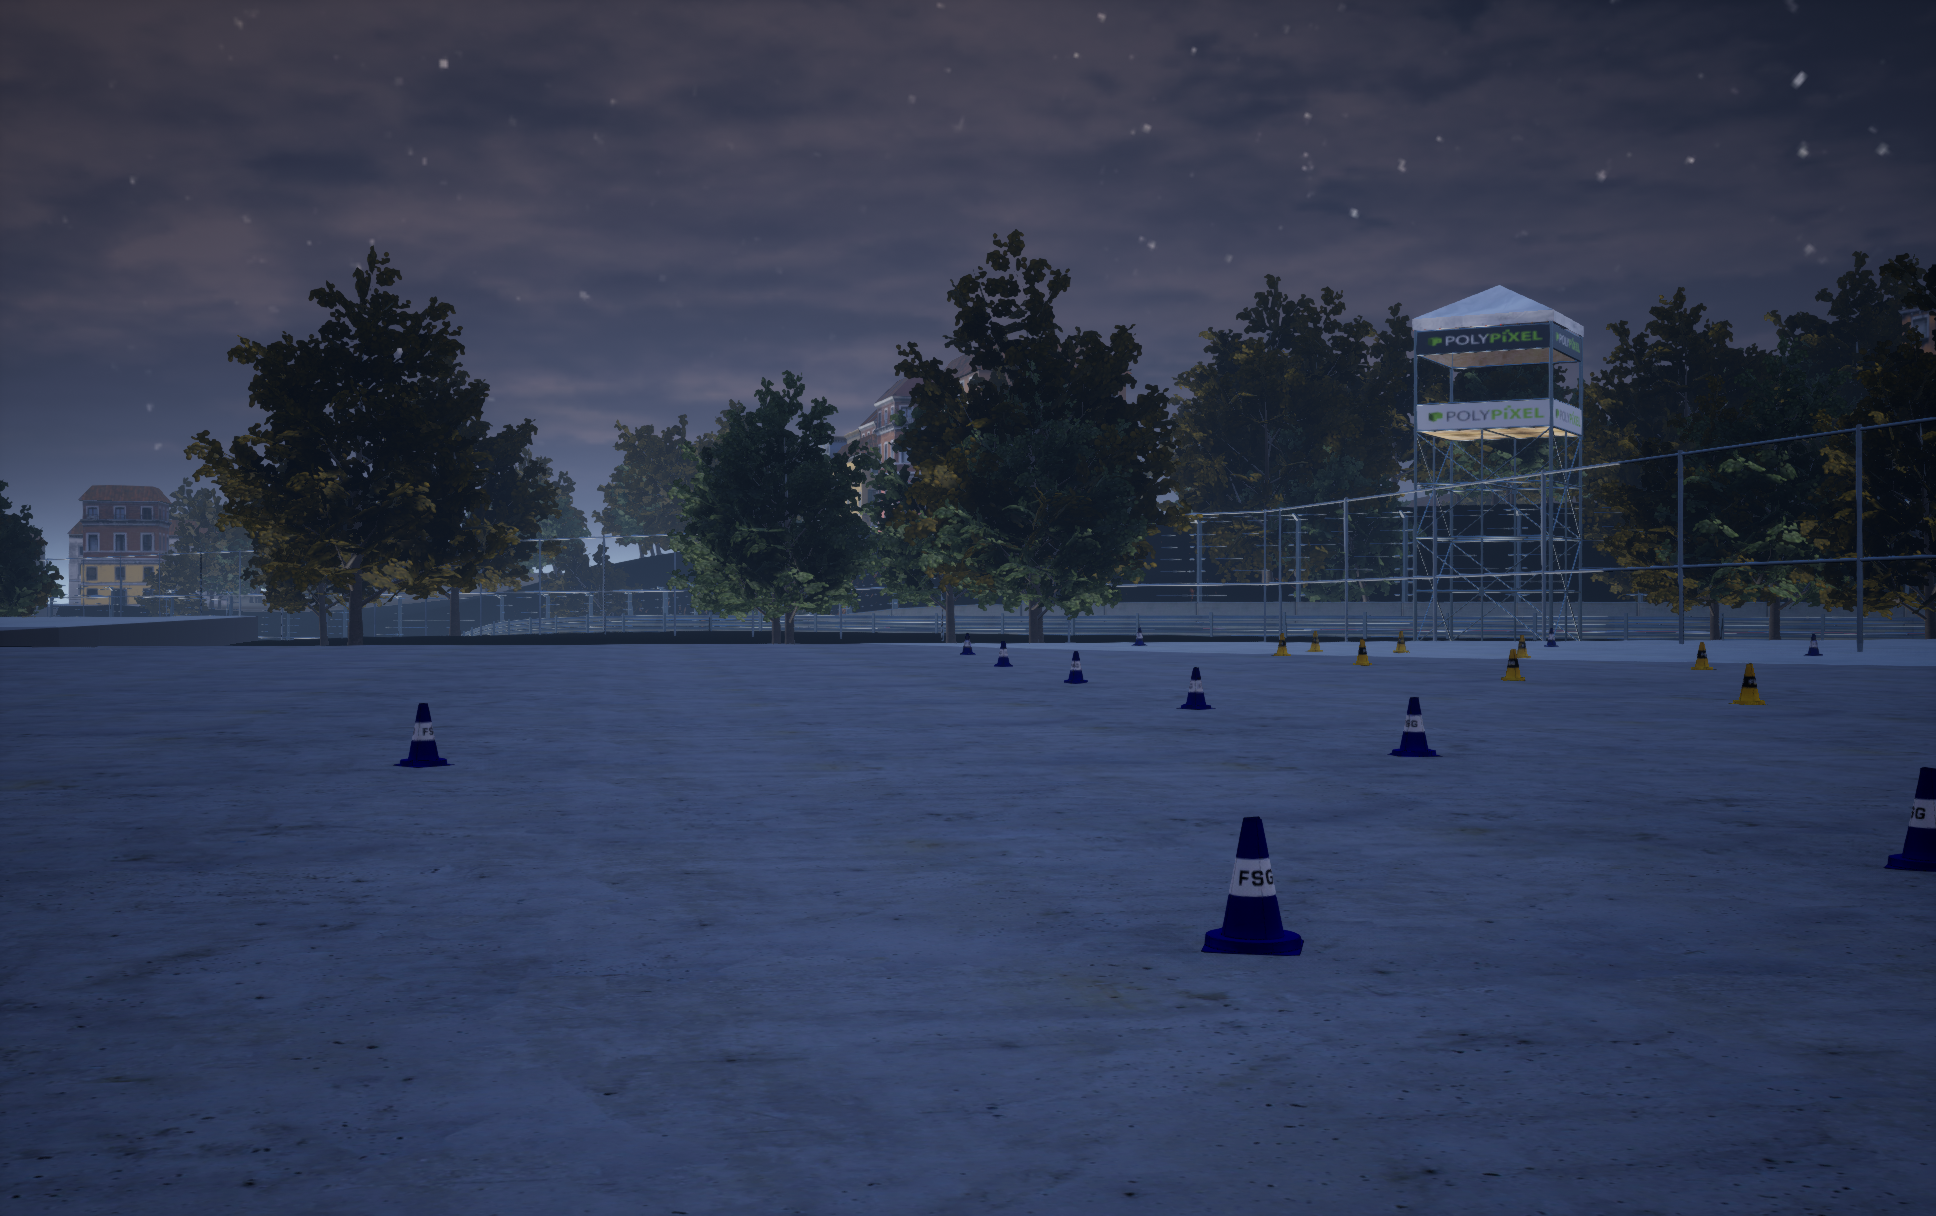blue: (1729, 663, 1766, 705), (1500, 649, 1526, 679), (1691, 642, 1716, 670), (1353, 639, 1371, 665), (1271, 633, 1290, 656), (1392, 630, 1409, 651), (1306, 630, 1322, 651), (1517, 635, 1530, 657)
yellow: (1201, 815, 1303, 955), (1883, 766, 1935, 871), (394, 703, 454, 766), (1387, 698, 1441, 756), (1175, 667, 1215, 709), (1065, 651, 1087, 684), (1803, 635, 1823, 656), (995, 642, 1011, 665), (960, 633, 975, 654), (1131, 628, 1147, 644), (1544, 628, 1558, 646)
